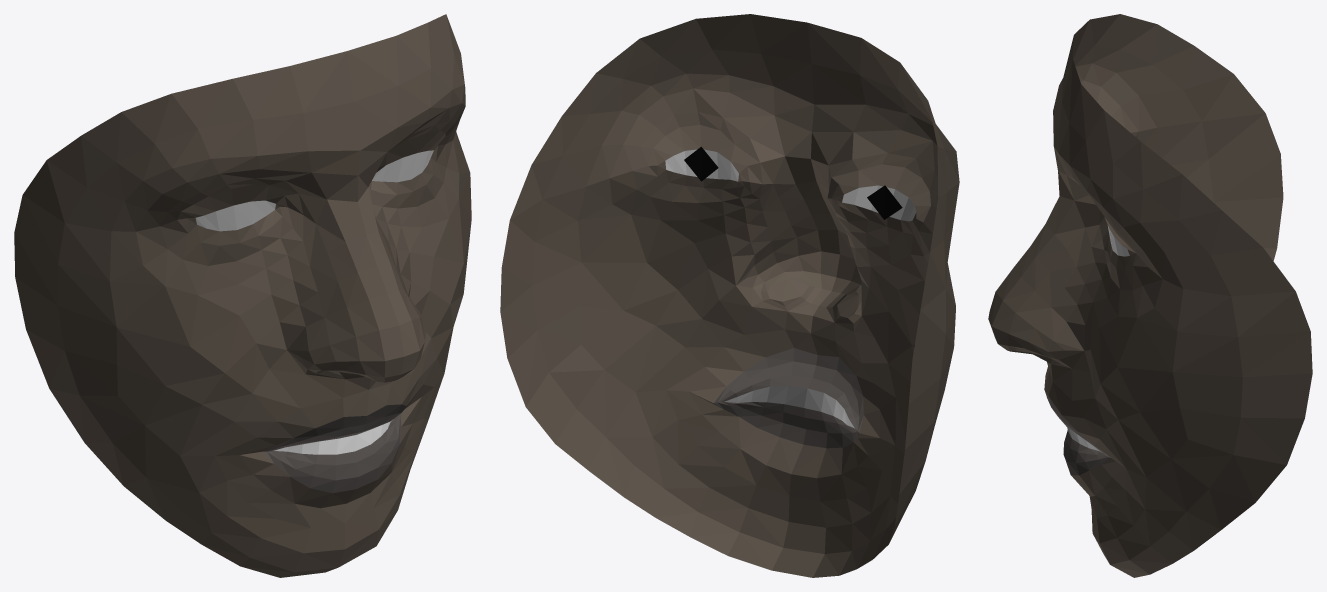
Rendered from anxious.obj.
3 renders of one model, left to right at view 1: azimuth 30°, elevation 25°; view 2: azimuth 150°, elevation 25°; view 3: azimuth 270°, elevation 25°, orthographic. The views are drawn at different scales.
Parts seen in each view (by area): view 1: face_model_with_iris; view 2: face_model_with_iris; view 3: face_model_with_iris.
Part boxes in pixels (left/top/right/bottom): face_model_with_iris: left=14, top=14, right=471, bottom=577; face_model_with_iris: left=500, top=14, right=959, bottom=577; face_model_with_iris: left=988, top=14, right=1312, bottom=577.
Size of the model in its own units: 0.7949 by 1 by 0.5852.
